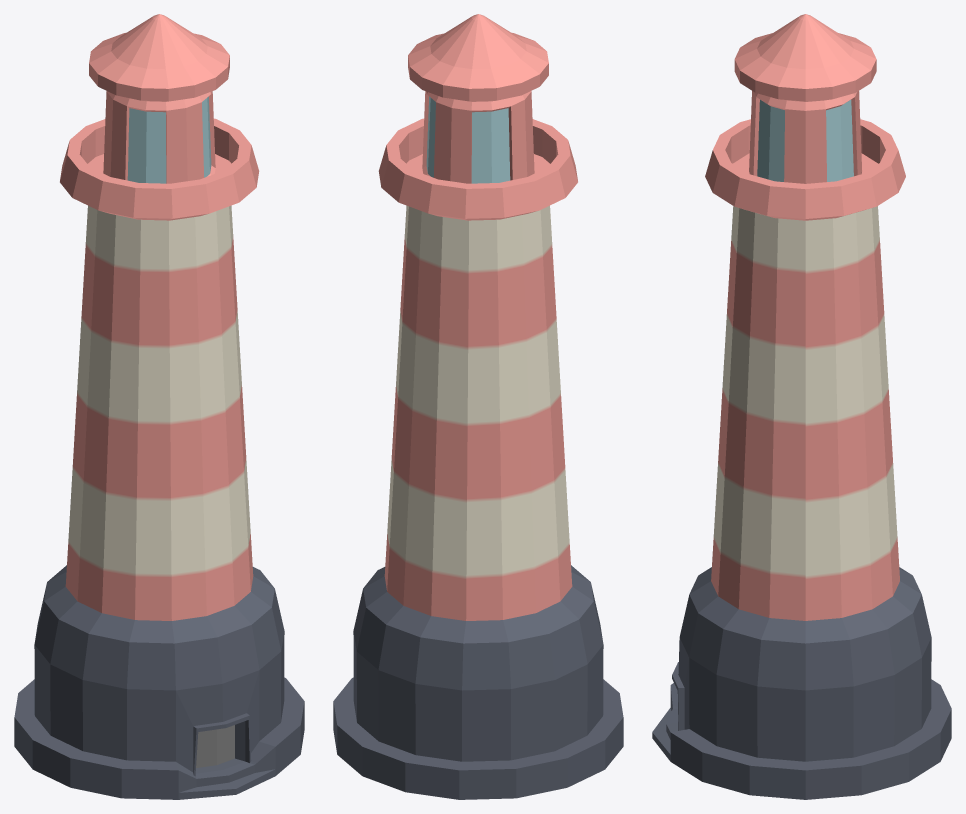
Rendered from Lighthouse.fbx.
The picture shows the model from 3 angles, left to right: view 1: azimuth 30°, elevation 25°; view 2: azimuth 150°, elevation 25°; view 3: azimuth 270°, elevation 25°; orthographic projection.
Parts seen in each view (by area): view 1: LightHouse; view 2: LightHouse; view 3: LightHouse.
Part boxes in pixels (x1,y1,x2,y2): LightHouse: (14,14,304,799); LightHouse: (333,14,623,799); LightHouse: (652,14,951,799).
Size of the model in its own units: 273 by 745 by 279.
